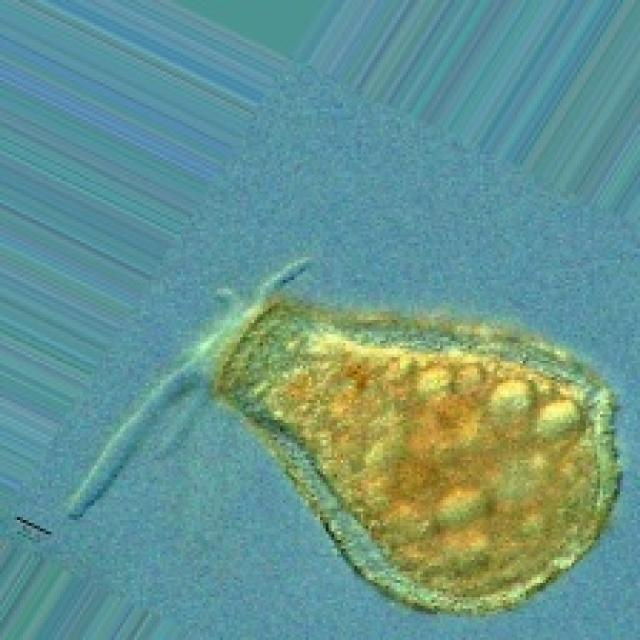Amoeba: (208, 289, 623, 617)
